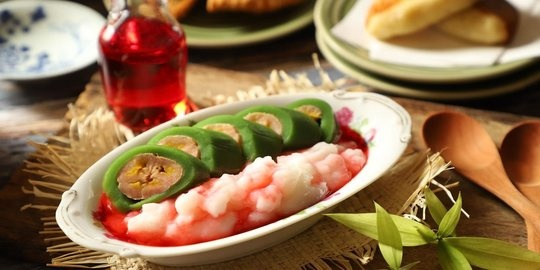es_pisang_ijo: (100, 100, 368, 248)
